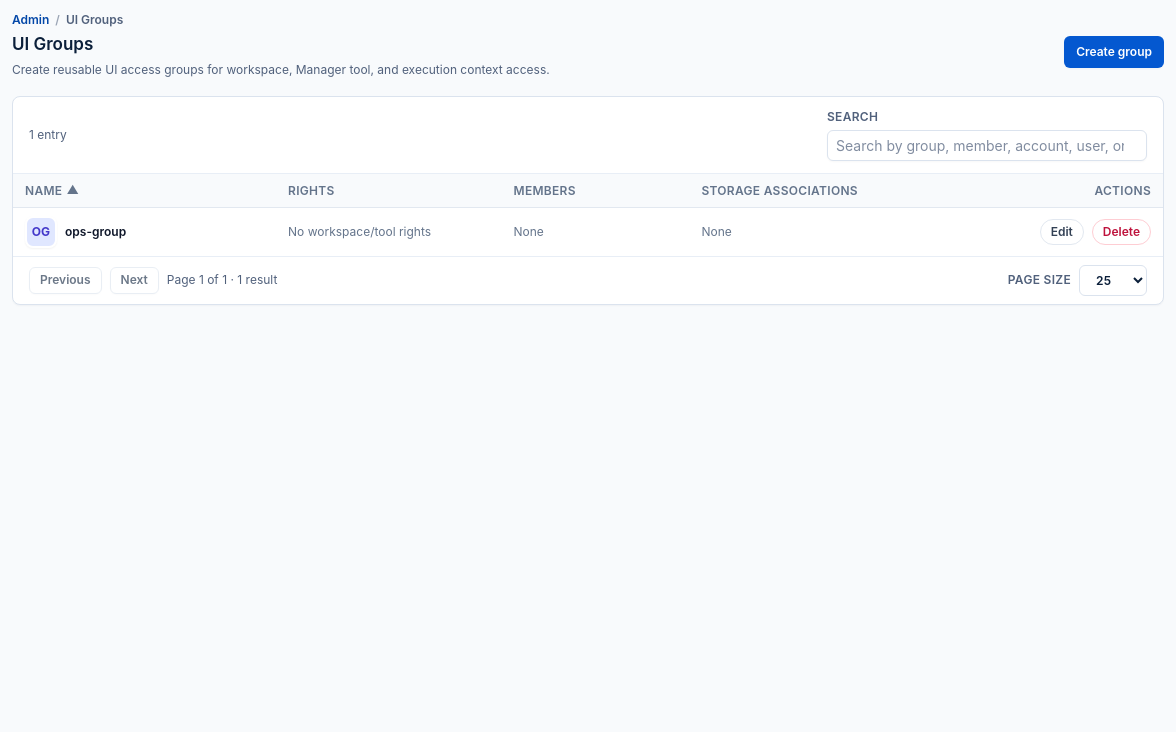
GroupsPage › opens the group editor when a neutral row cell is clicked
Check: the text "ops-group" is shown, box [65,224,126,239]
Click the text "No workspace/tool rights". click: (360, 232)
box: [288,224,431,240]
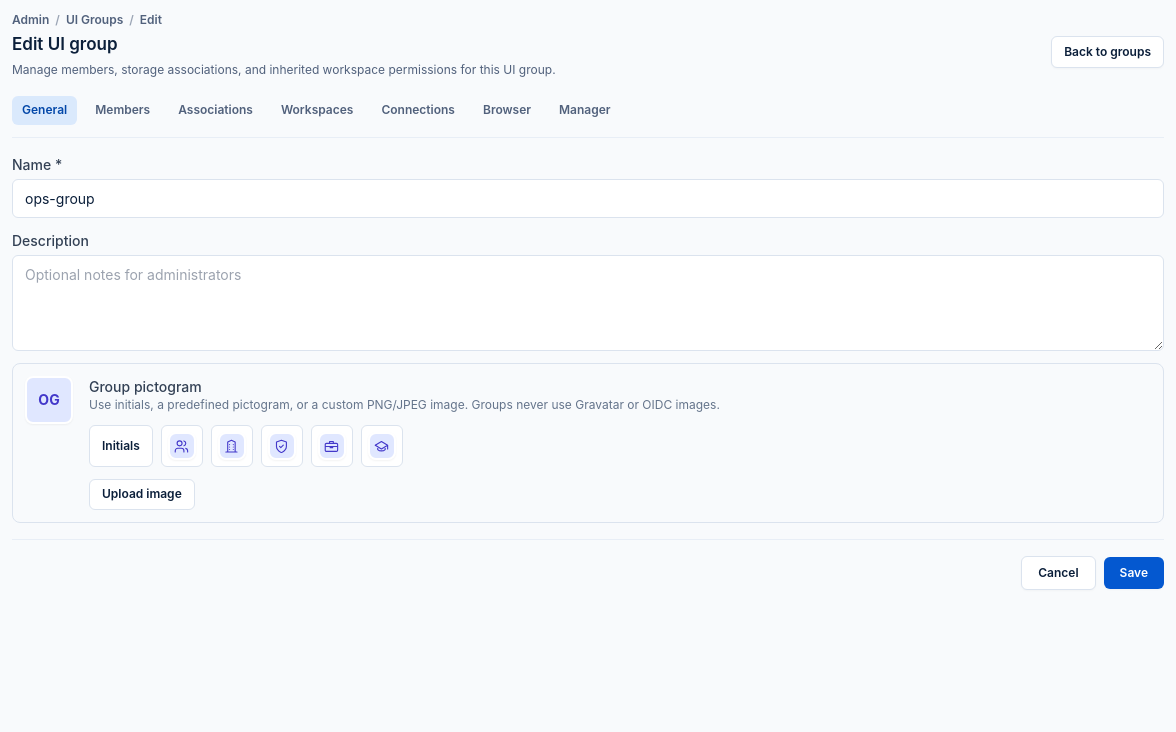
Check: the heading "Edit UI group" is shown, box [12,32,118,56]
